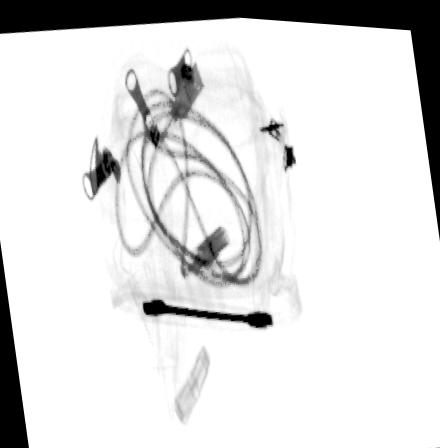Wrench: (139, 294, 275, 326)
